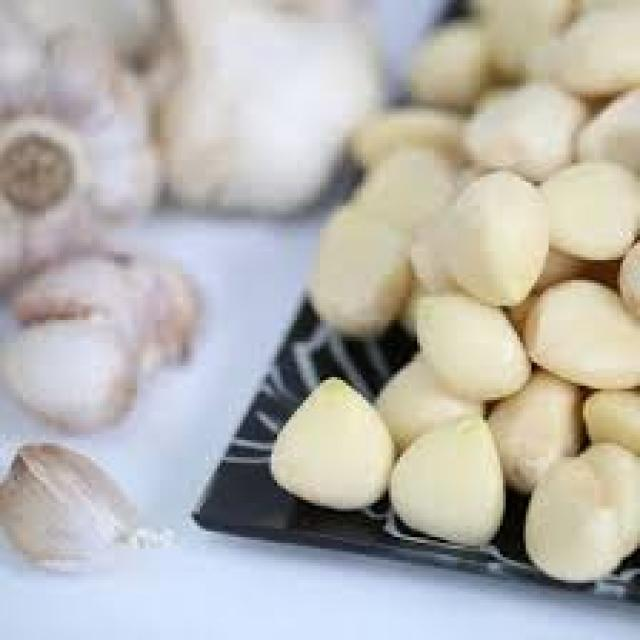garlic: (409, 166, 637, 551)
